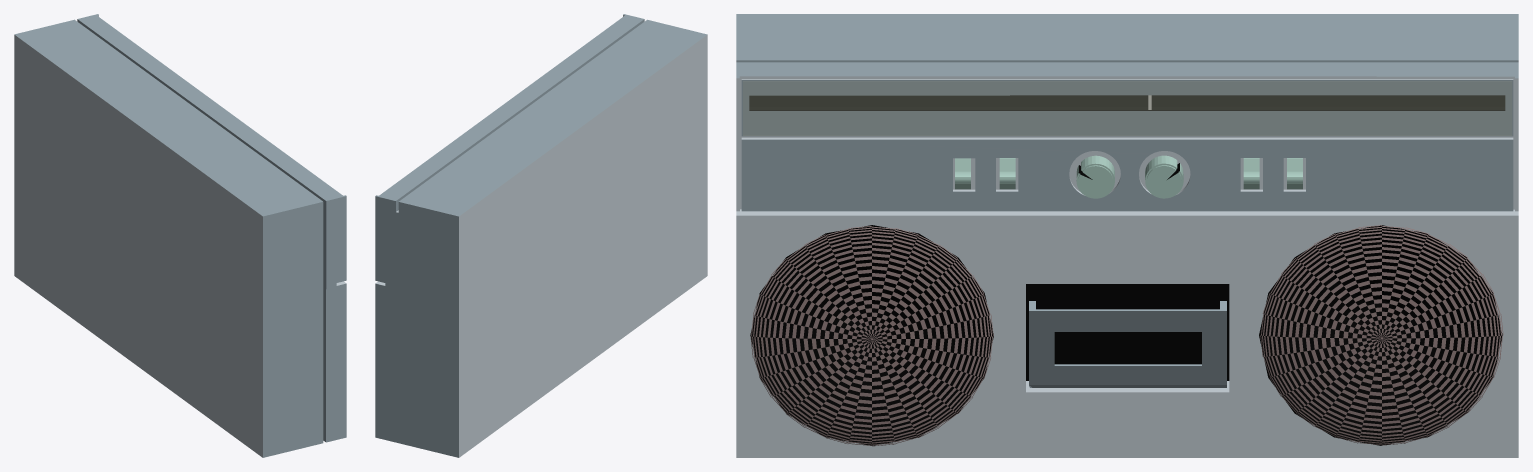
File: boom.glb
3 views of the same model, side by side, from view 1: azimuth 30°, elevation 25°; view 2: azimuth 150°, elevation 25°; view 3: azimuth 270°, elevation 25° (orthographic). The views are drawn at different scales.
Visible parts, largest first — view 1: Cube; view 2: Cube; view 3: Cube.
Boxes of the visible parts, x1,y1,x2,y2 form: Cube: (14,14,346,457); Cube: (375,14,707,457); Cube: (736,14,1518,457).
Bounding box in the file's own units: 1.02 × 2.33 × 4.35.
